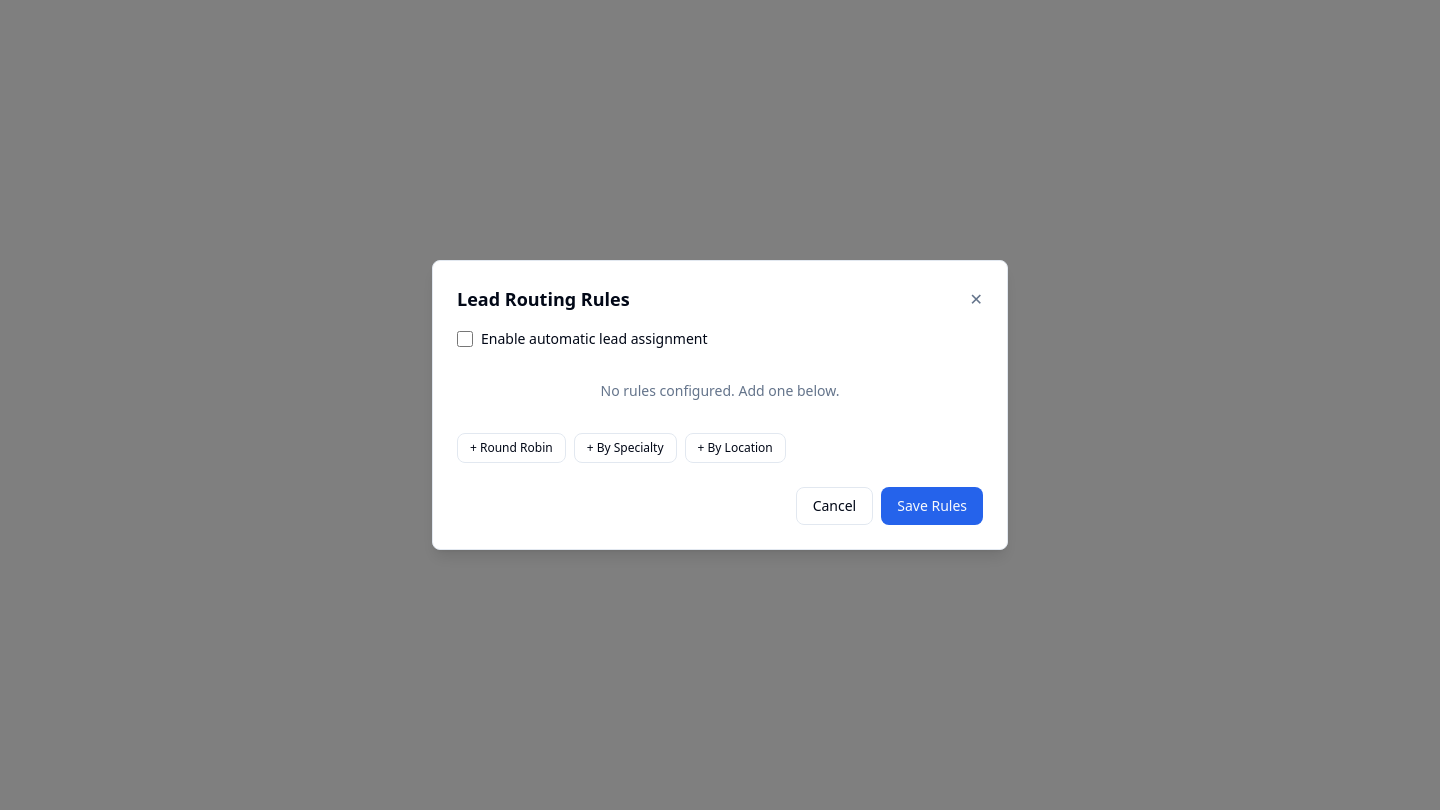
LeadRoutingRules › adds a specialty rule when button is clicked
Click the button "+ By Specialty": (625, 448) [574,433,677,463]
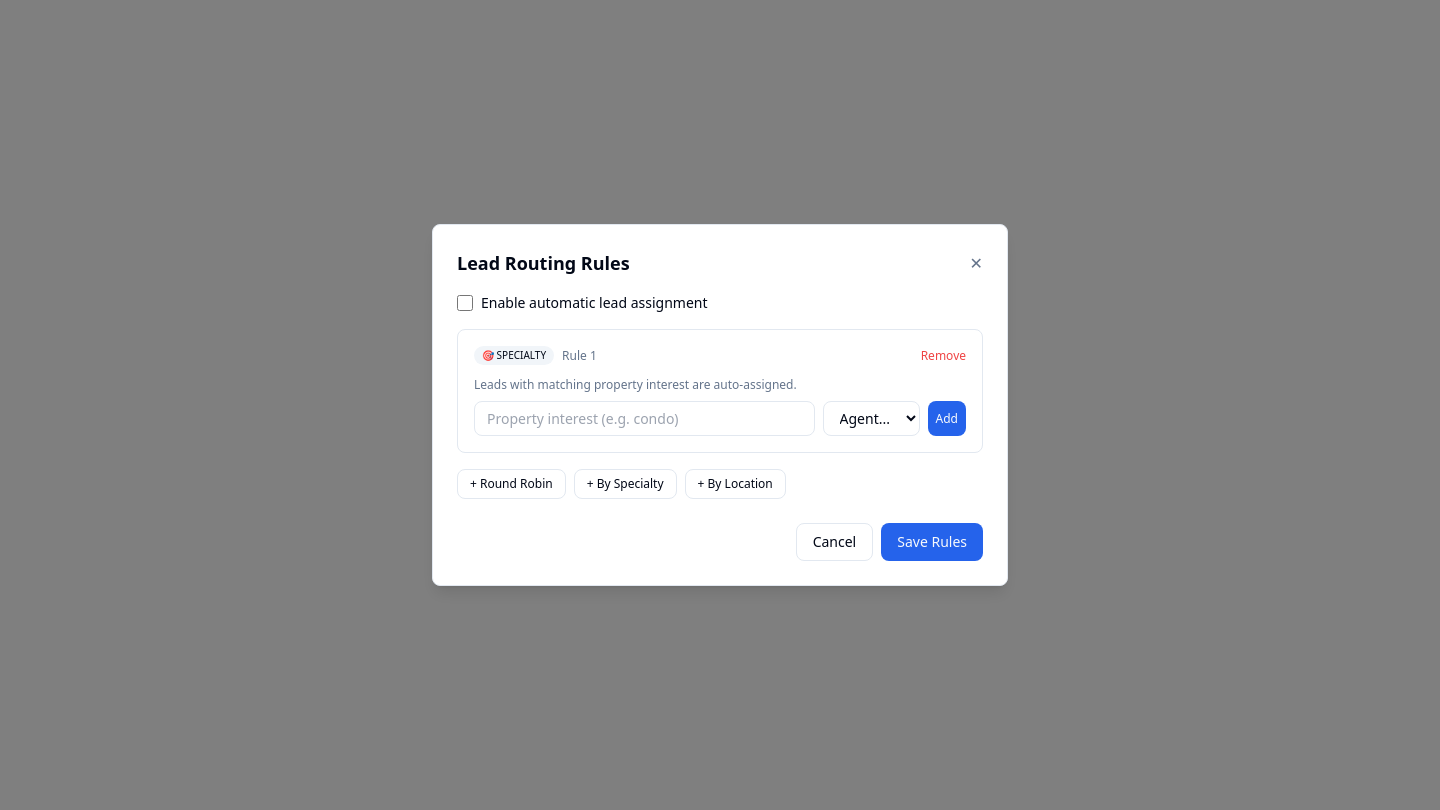
expect the text "🎯 Specialty" is shown: met, box [474,346,554,365]
expect the text "Leads with matching property interest are auto-assigned." is shown: met, box [474,376,797,393]
